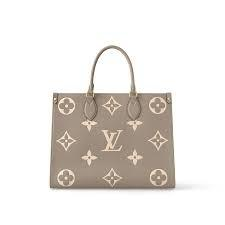LOUIS-VUITTON: (50, 91, 176, 190)
